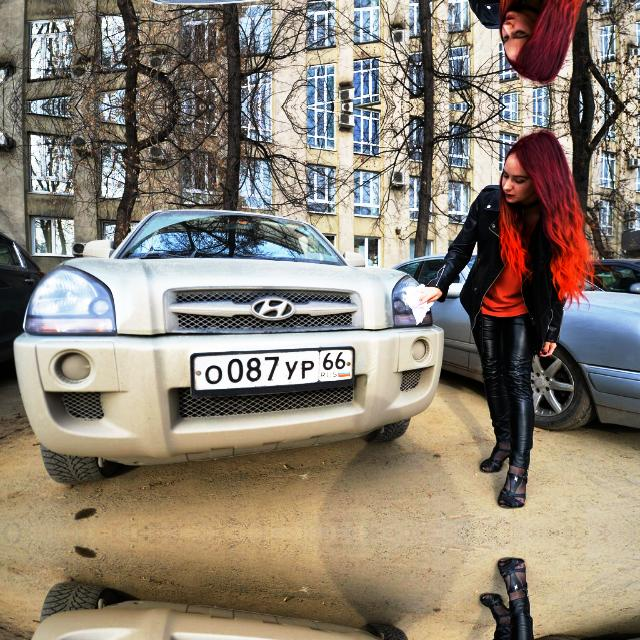citizen: (187, 345, 357, 391)
